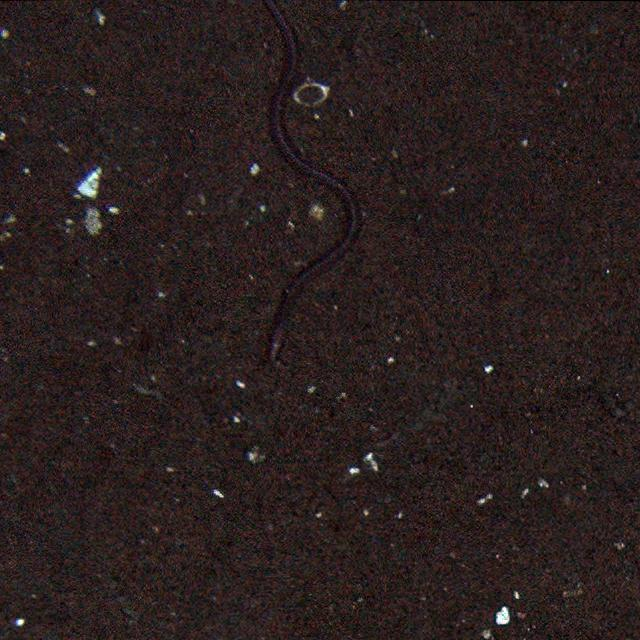eel: (258, 0, 363, 366)
